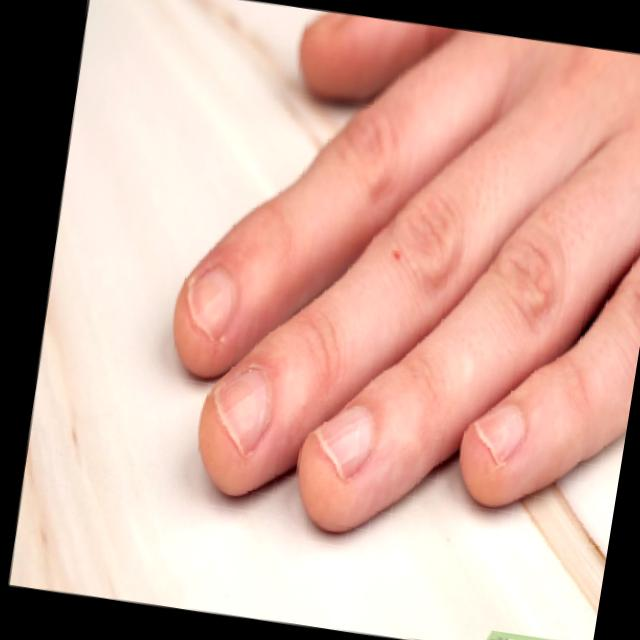Nail: (213, 366, 270, 453), (314, 404, 369, 477), (188, 266, 233, 340), (473, 403, 525, 466)
